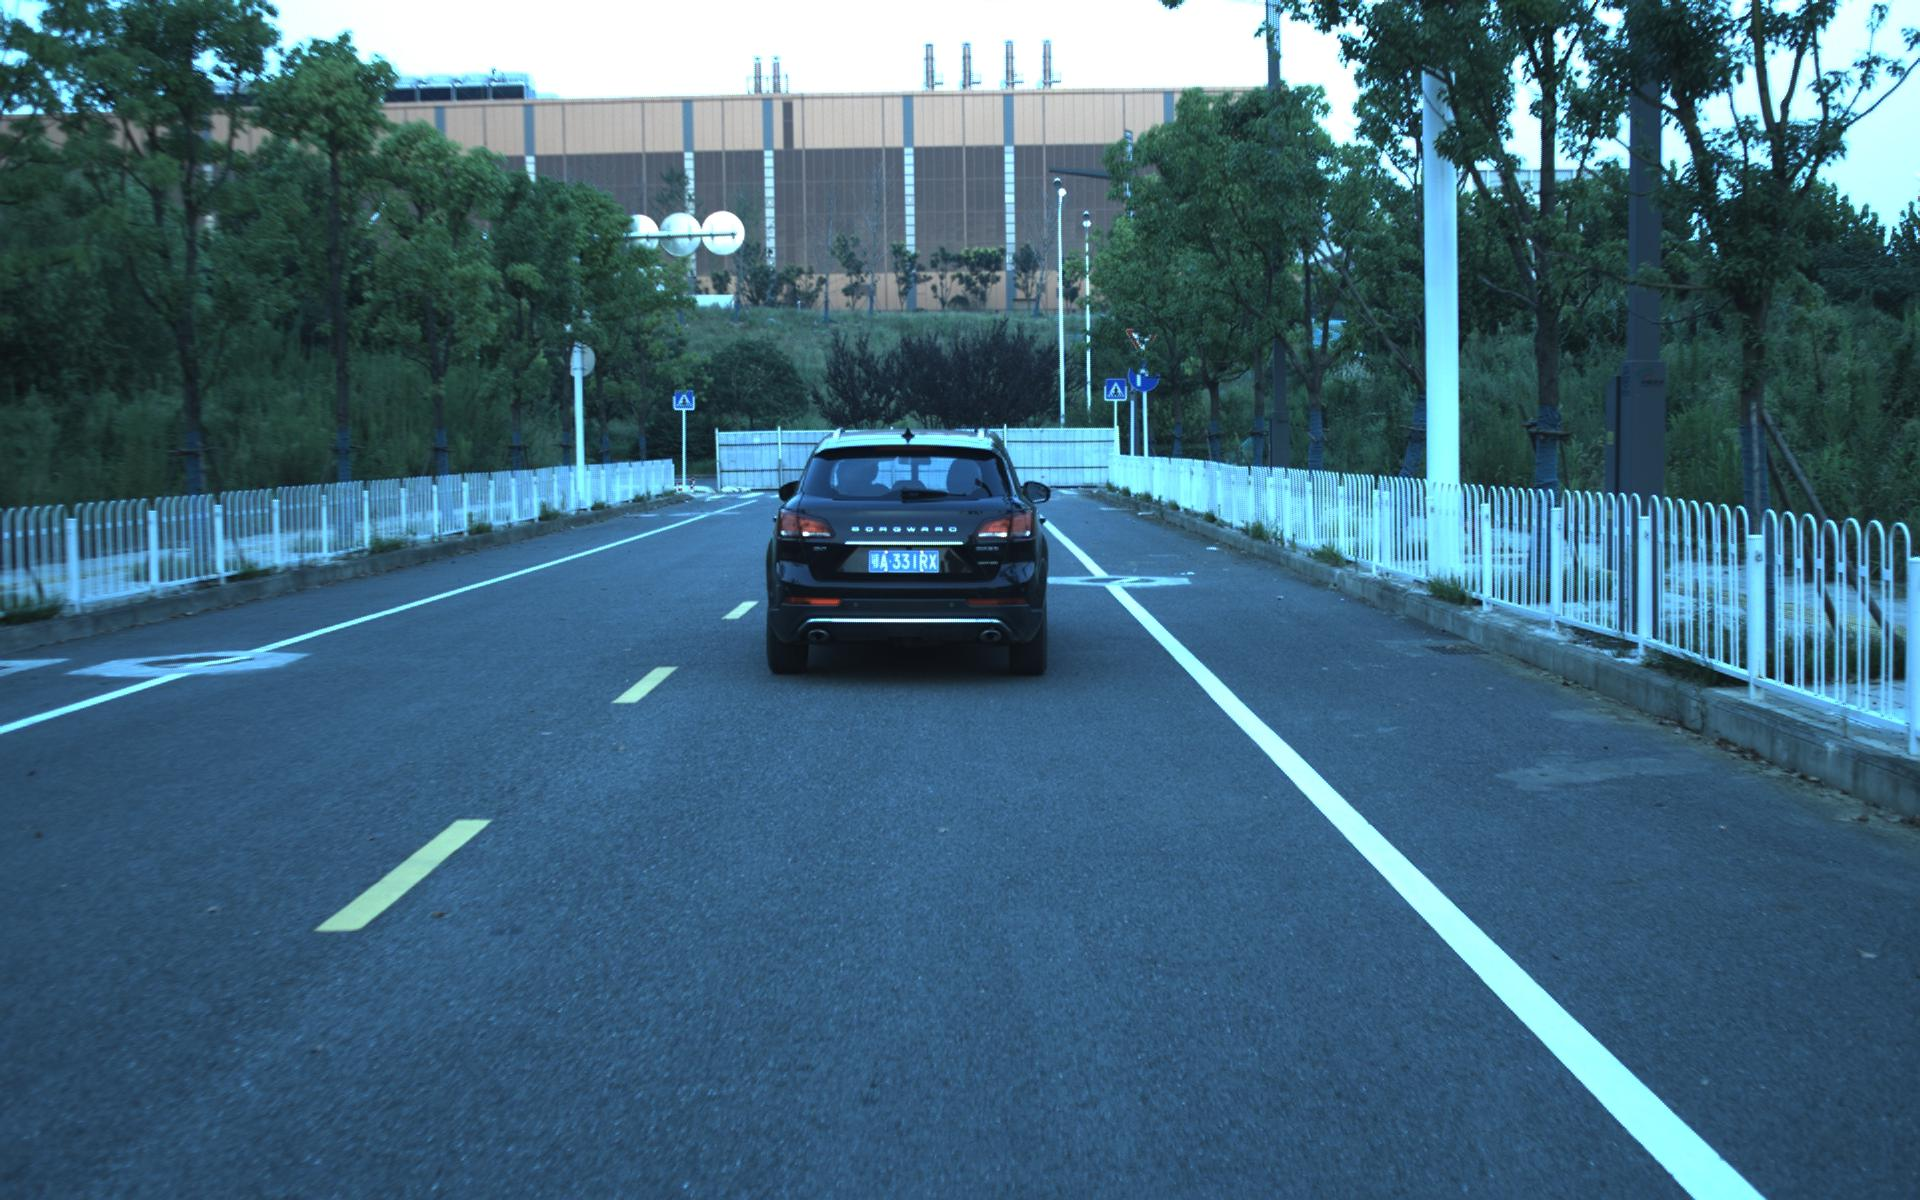Car: (764, 422, 1052, 677)
